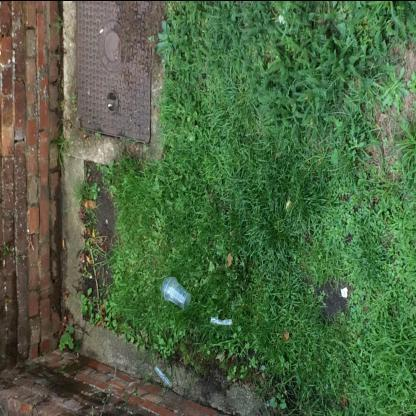plastik: (162, 276, 192, 310)
